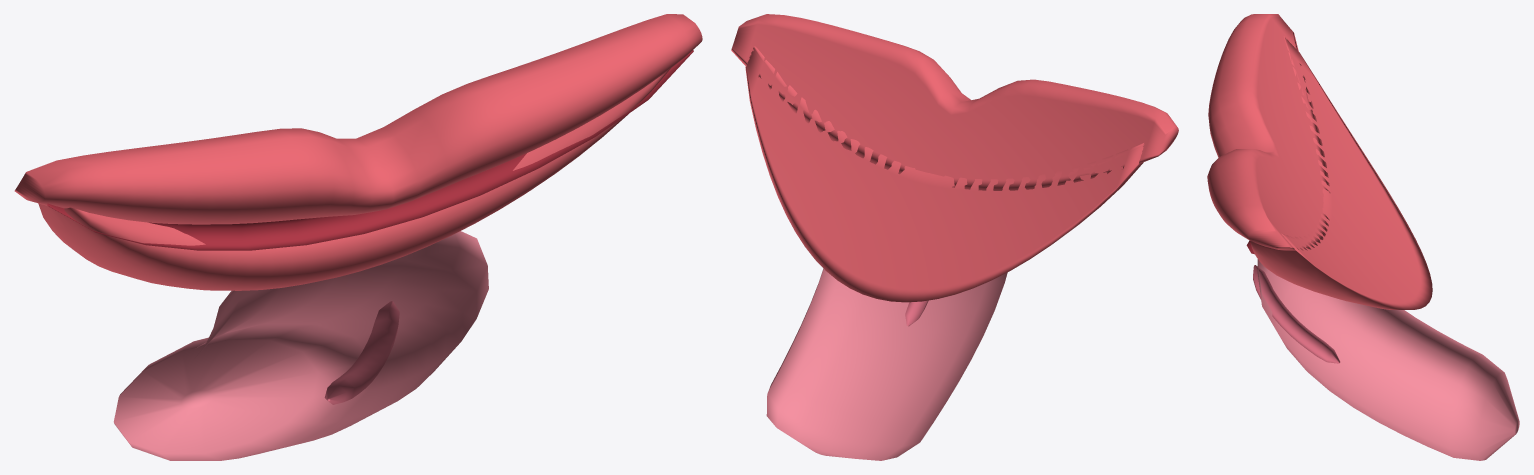
The model's file is mouth-tongue.glb.
3 views of the same model, side by side, from view 1: azimuth 30°, elevation 25°; view 2: azimuth 150°, elevation 25°; view 3: azimuth 270°, elevation 25° (orthographic). The views are drawn at different scales.
Parts seen in each view (by area): view 1: upperlip, tongue, lowerlip, parting, tongueline; view 2: lowerlip, upperlip, tongue; view 3: tongue, upperlip, lowerlip, tongueline.
Boxes of the visible parts, left/top/right/bottom form: upperlip: left=14, top=14, right=702, bottom=224; tongue: left=113, top=231, right=488, bottom=460; lowerlip: left=38, top=68, right=670, bottom=290; parting: left=47, top=50, right=693, bottom=250; tongueline: left=324, top=301, right=399, bottom=404; lowerlip: left=745, top=46, right=1144, bottom=302; upperlip: left=731, top=14, right=1178, bottom=190; tongue: left=766, top=268, right=1007, bottom=460; tongue: left=1257, top=259, right=1519, bottom=460; upperlip: left=1207, top=14, right=1330, bottom=250; lowerlip: left=1250, top=36, right=1432, bottom=309; tongueline: left=1253, top=265, right=1340, bottom=363.
Bounding box in the file's own units: 0.155 × 0.1091 × 0.0948.
